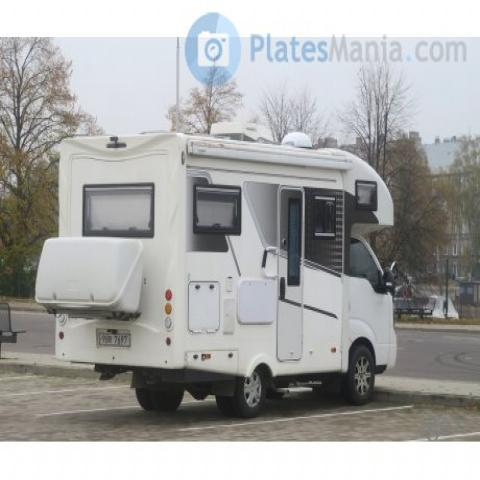LP: (93, 318, 136, 357)
